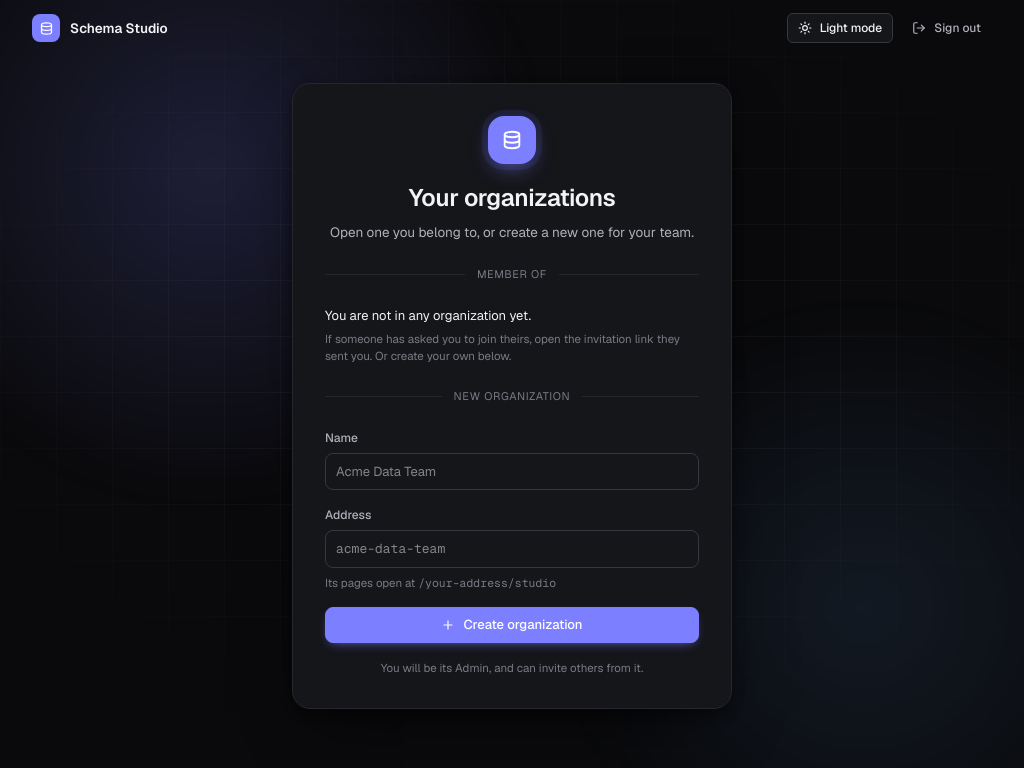
Test: the address › follows the name again once emptied, from the name's next change
Type "Acme" into the field labelled "Name" at x=512, y=472, box [325,453,699,490]
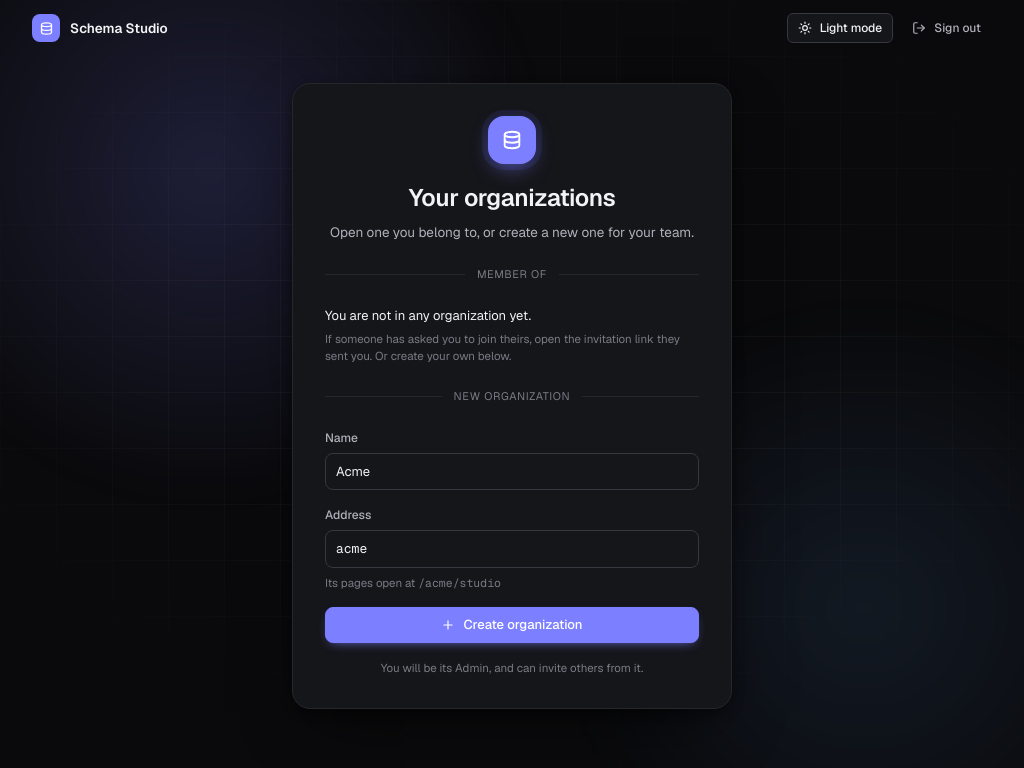
Replace the text in the field labelled "Address" with "my-own" at x=512, y=549, box [325,530,699,568]
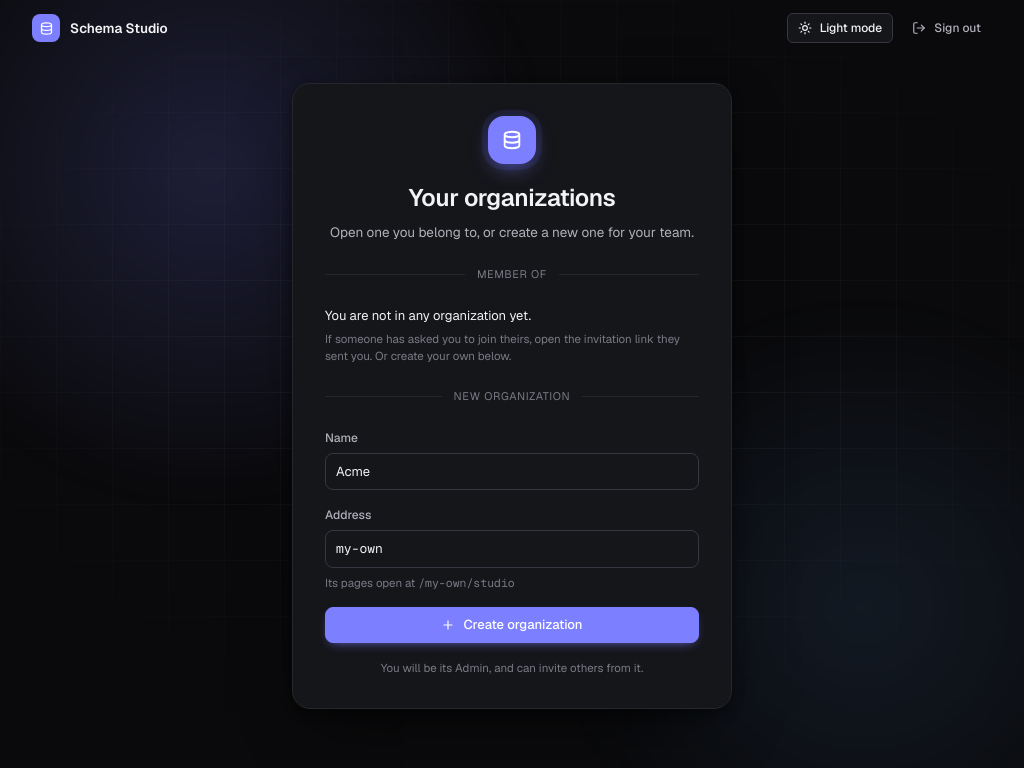
Clear the field labelled "Address" at x=512, y=549, box [325,530,699,568]
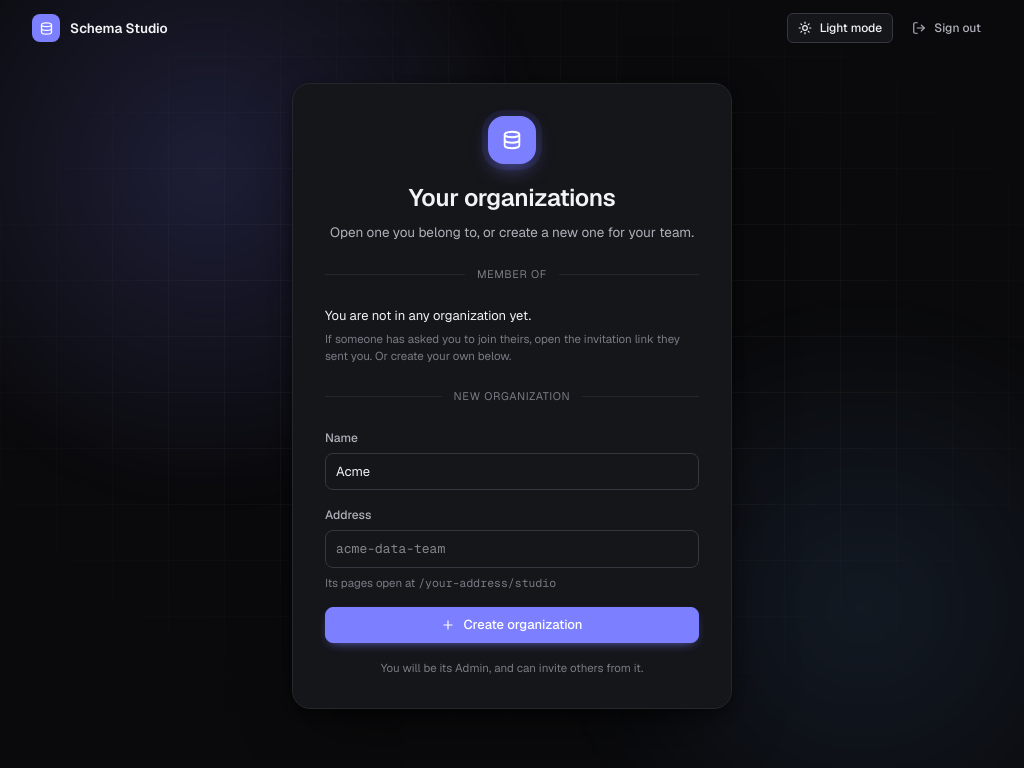
Replace the text in the field labelled "Name" with "Acme Labs" at x=512, y=472, box [325,453,699,490]
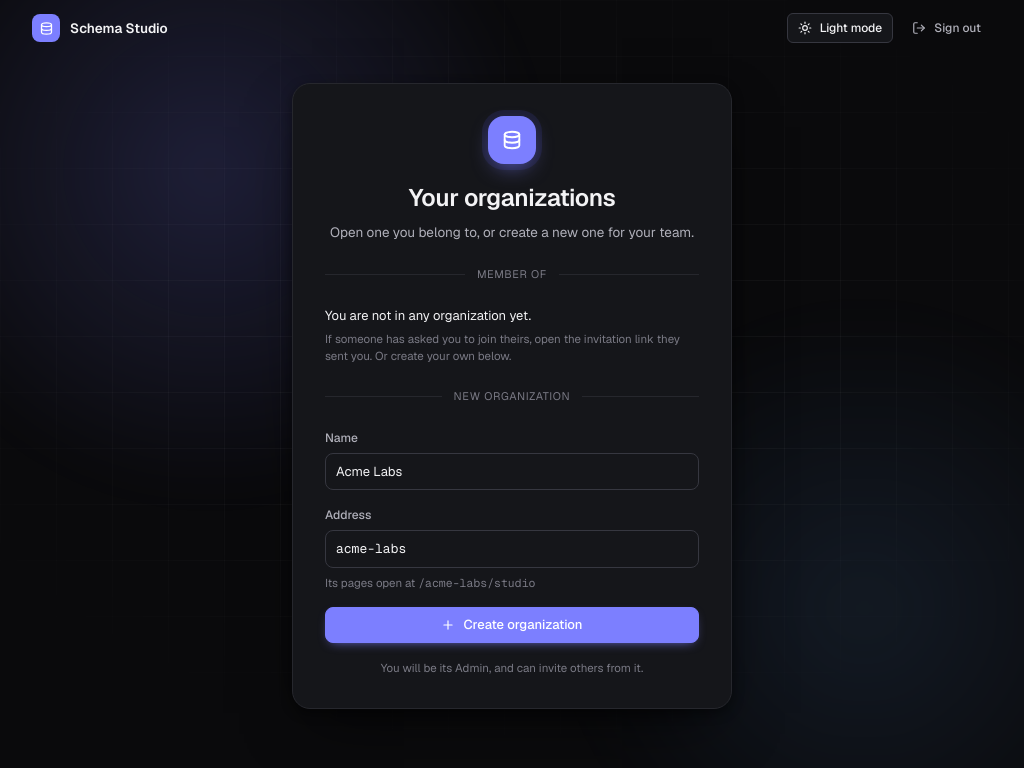
Expected: the field labelled "Address" holds "acme-labs", [325,530,699,568]
